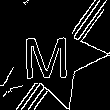M_N: (25, 30, 74, 81)
